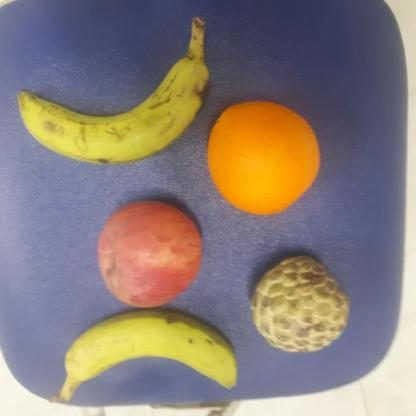annona: (248, 252, 354, 356)
apple: (94, 200, 206, 311)
banana: (15, 54, 211, 165), (58, 312, 240, 396)
orange: (203, 101, 325, 216)
